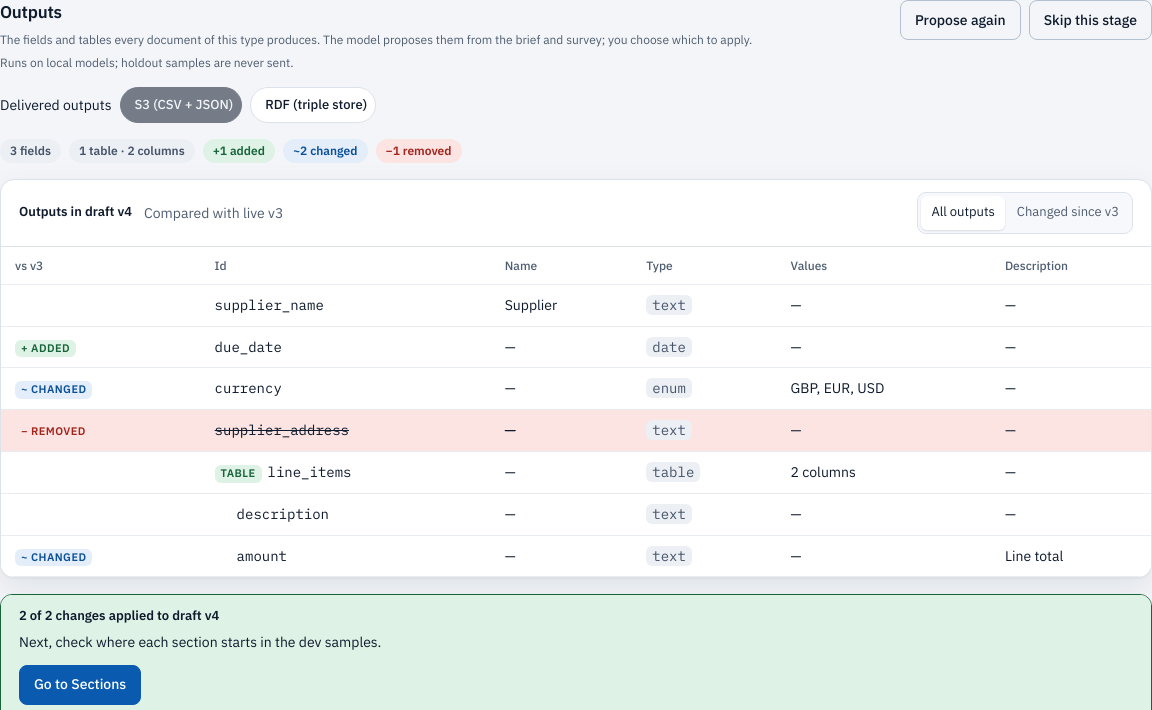
Test case: Outputs tab: delivered outputs (S3 and RDF) › shows a refused save
Click the button "RDF (triple store)" at point(313, 105), box [250,87,376,123]
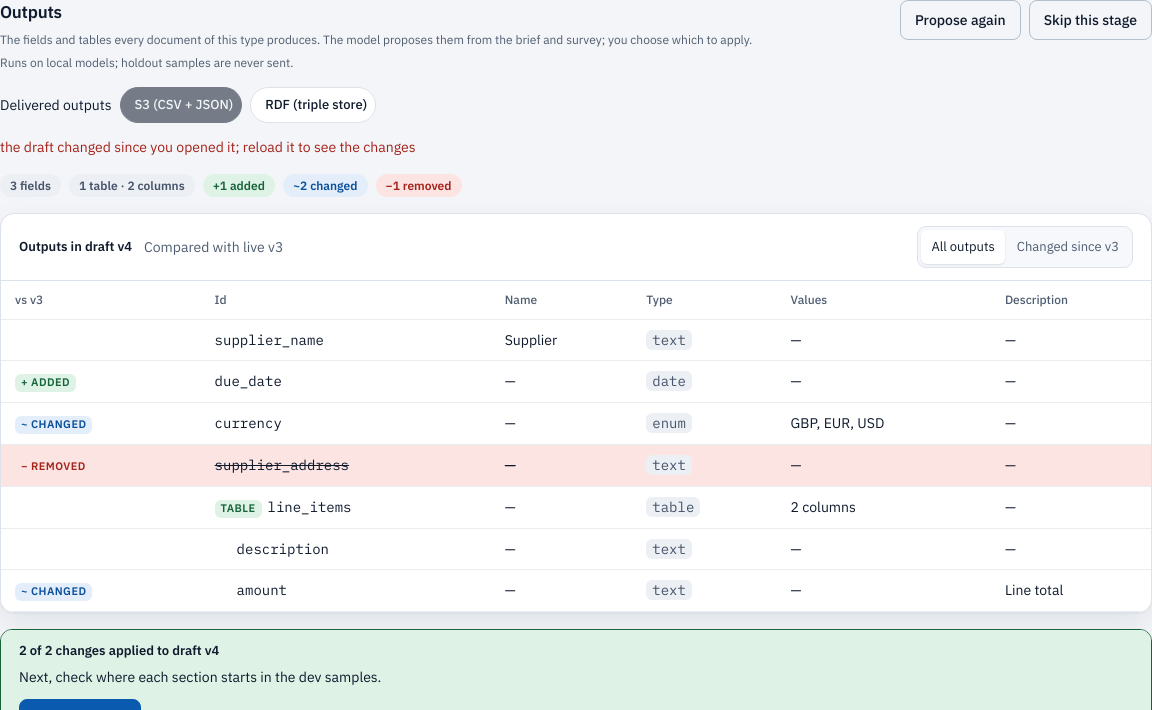
Check: the message "the draft changed since you opened it; reload it to see the changes" is shown, box [0,138,416,156]
